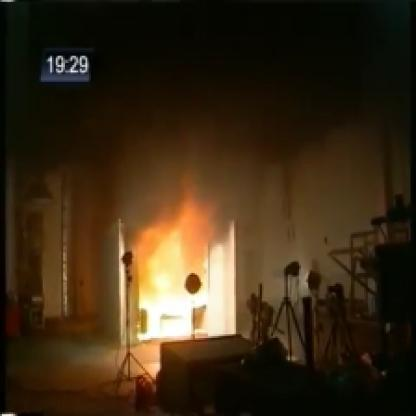fire: (93, 149, 256, 331)
